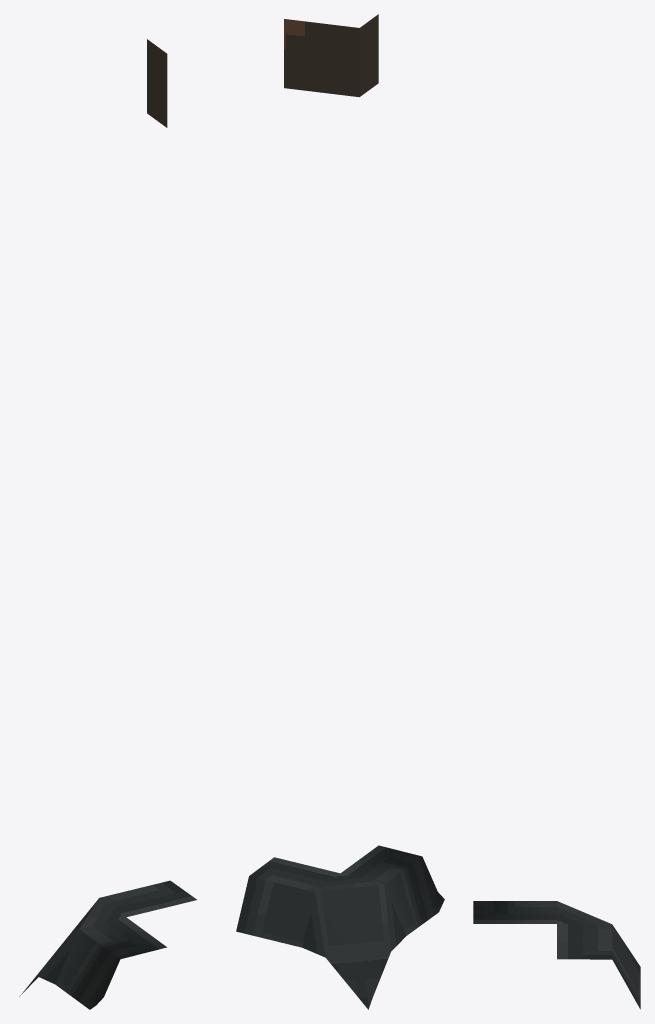
3 views of the same model, side by side, from view 1: azimuth 30°, elevation 25°; view 2: azimuth 150°, elevation 25°; view 3: azimuth 270°, elevation 25° (orthographic). The views are drawn at different scales.
Bounding box in the file's own units: 1 × 6.67 × 1.
Materials: 3 (3 with a texture image).
